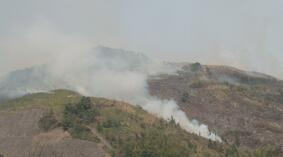yanwu: (1, 0, 223, 143)
